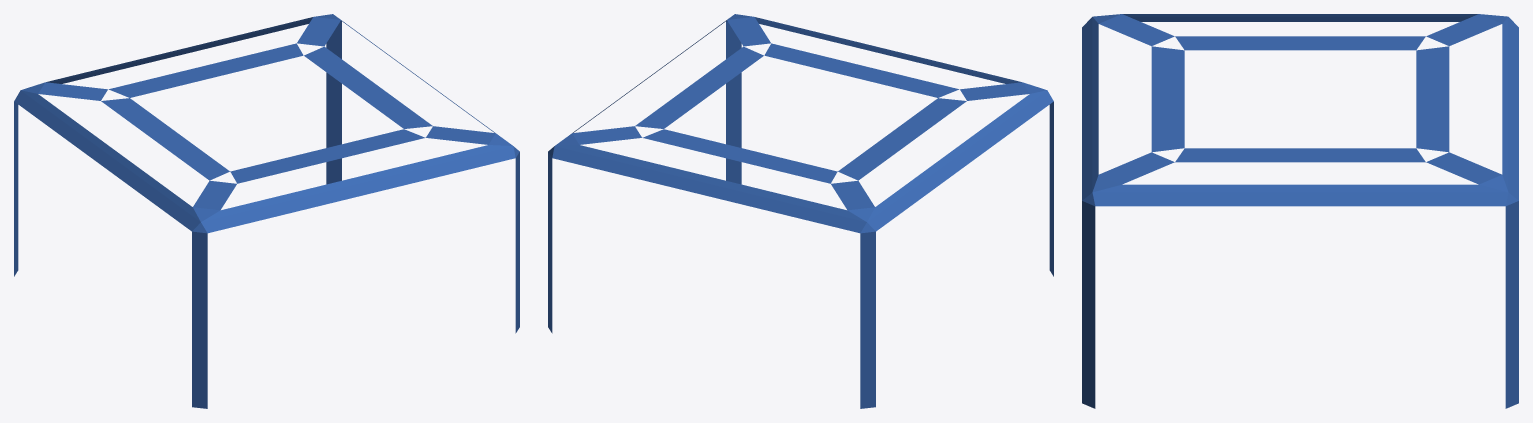
File: overlay.fbx
3 renders of one model, left to right at view 1: azimuth 30°, elevation 25°; view 2: azimuth 150°, elevation 25°; view 3: azimuth 270°, elevation 25°, orthographic. The views are drawn at different scales.
Parts seen in each view (by area): view 1: Overlay; view 2: Overlay; view 3: Overlay.
Part boxes in pixels (x1=…): Overlay: x1=14, y1=14, x2=519, y2=408; Overlay: x1=548, y1=14, x2=1053, y2=408; Overlay: x1=1082, y1=14, x2=1518, y2=408.
Size of the model in its own units: 200 by 110 by 200.
